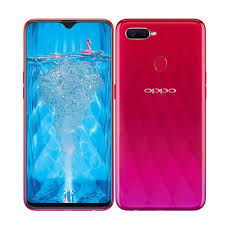oppo: (112, 16, 209, 215), (22, 17, 117, 213)
